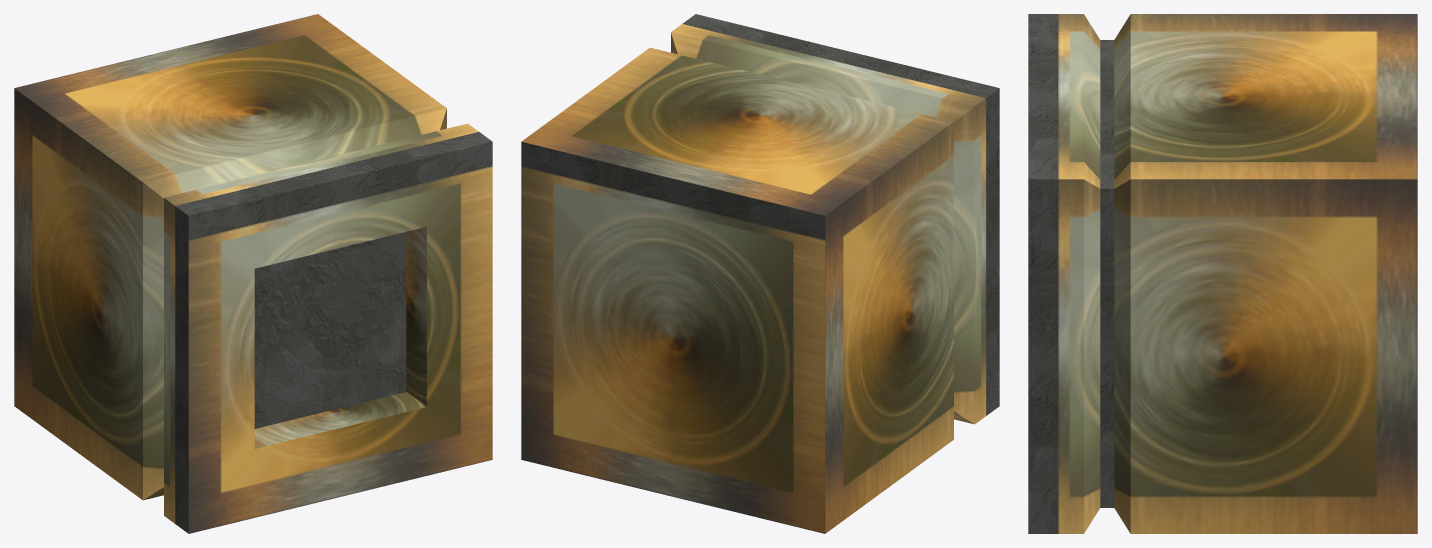
The picture shows the model from 3 angles, left to right: view 1: azimuth 30°, elevation 25°; view 2: azimuth 150°, elevation 25°; view 3: azimuth 270°, elevation 25°; orthographic projection. The views are drawn at different scales.
Visible parts, largest first — view 1: Cube_Cube_None_QuartoPieces.png; view 2: Cube_Cube_None_QuartoPieces.png; view 3: Cube_Cube_None_QuartoPieces.png.
Boxes of the visible parts, bbox=[...] form: Cube_Cube_None_QuartoPieces.png: bbox=[14, 14, 492, 533]; Cube_Cube_None_QuartoPieces.png: bbox=[521, 14, 999, 533]; Cube_Cube_None_QuartoPieces.png: bbox=[1028, 14, 1417, 533].
Size of the model in its own units: 2 by 2 by 1.99.
